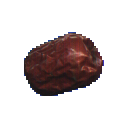gd: (19, 18, 105, 101)
